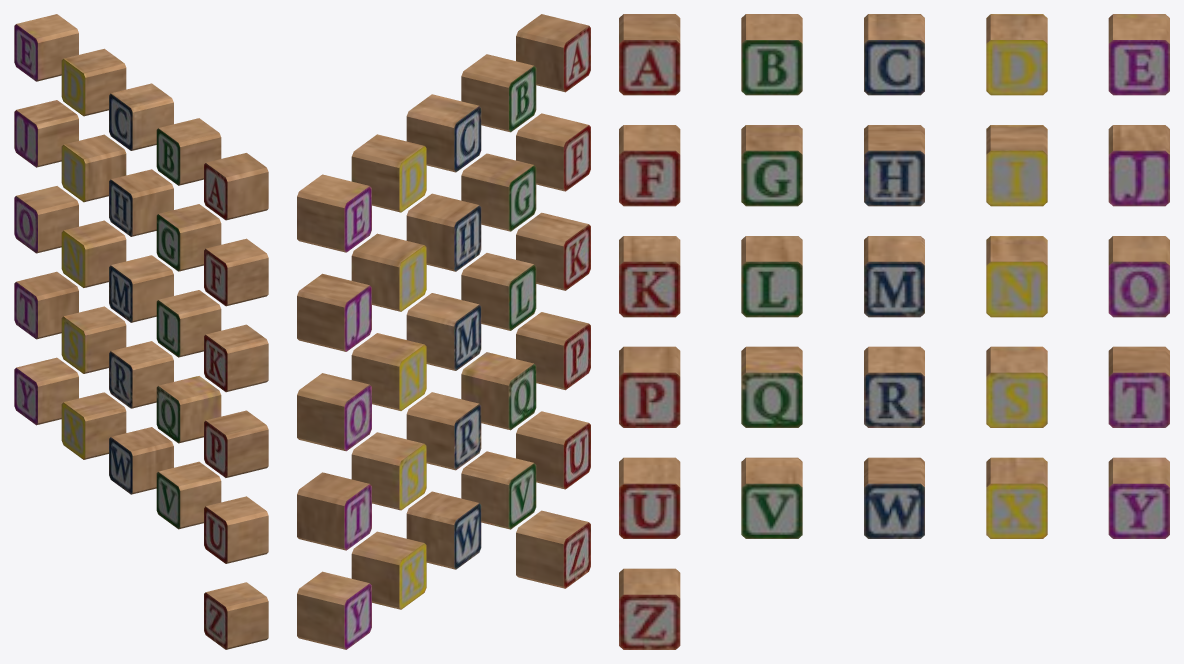
Rendered from blocks.glb.
The picture shows the model from 3 angles, left to right: view 1: azimuth 30°, elevation 25°; view 2: azimuth 150°, elevation 25°; view 3: azimuth 270°, elevation 25°; orthographic projection. The views are drawn at different scales.
Visible parts, largest first — view 1: F_low, P_low, Z_low, K_low, U_low, A_low, I_low, V_low, S_low, G_low, L_low, Q_low (+14 smaller); view 2: T_low, Z_low, O_low, E_low, J_low, Y_low, G_low, M_low, V_low, W_low, C_low, L_low (+14 smaller); view 3: K_low, O_low, P_low, T_low, F_low, J_low, U_low, Y_low, A_low, E_low, Z_low, B_low (+14 smaller).
Part boxes in pixels (x1,y1,x2,y2): F_low: [204, 238, 268, 306]; P_low: [204, 410, 268, 477]; Z_low: [204, 582, 268, 649]; K_low: [204, 324, 268, 392]; U_low: [204, 496, 268, 563]; A_low: [204, 153, 268, 220]; I_low: [61, 134, 126, 202]; V_low: [156, 461, 221, 529]; S_low: [61, 306, 126, 373]; G_low: [156, 204, 221, 271]; L_low: [156, 290, 221, 357]; Q_low: [156, 376, 221, 443]; T_low: [297, 472, 371, 550]; Z_low: [516, 510, 590, 588]; O_low: [297, 373, 371, 451]; E_low: [297, 174, 371, 252]; J_low: [297, 273, 371, 351]; Y_low: [297, 571, 371, 649]; G_low: [461, 153, 536, 231]; M_low: [406, 293, 481, 370]; V_low: [461, 451, 536, 529]; W_low: [406, 491, 481, 569]; C_low: [406, 94, 481, 172]; L_low: [461, 253, 536, 330]; K_low: [619, 236, 680, 317]; O_low: [1108, 236, 1169, 317]; P_low: [619, 346, 680, 427]; T_low: [1108, 346, 1169, 427]; F_low: [619, 125, 680, 206]; J_low: [1108, 125, 1169, 206]; U_low: [619, 457, 680, 538]; Y_low: [1108, 457, 1169, 538]; A_low: [619, 14, 680, 95]; E_low: [1108, 14, 1169, 95]; Z_low: [619, 568, 680, 649]; B_low: [741, 14, 802, 95].
Bounding box in the file's own units: 0.2 × 2.2 × 1.8.
1 material, 1 textured.
